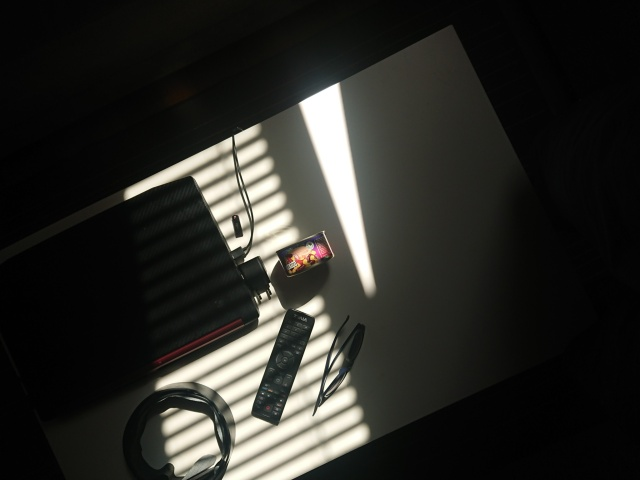Giana Tuna Salad Mexico 185g: (273, 229, 337, 279)
